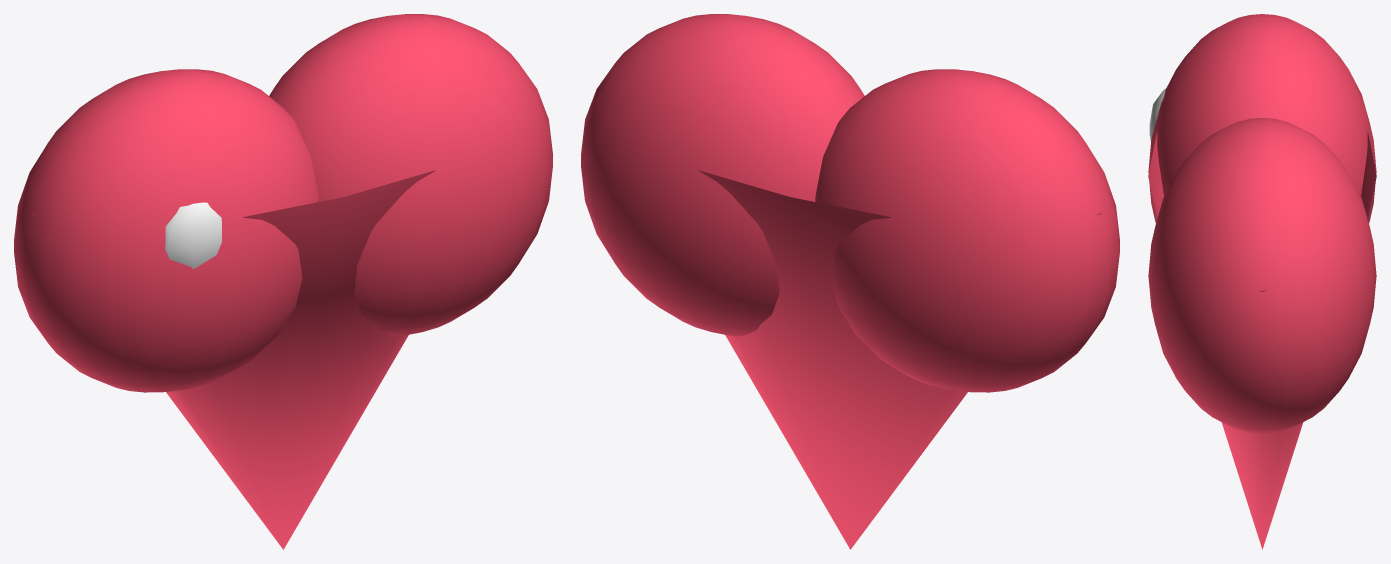
Rendered from Heart_Pickup.obj.
3 views of the same model, side by side, from view 1: azimuth 30°, elevation 25°; view 2: azimuth 150°, elevation 25°; view 3: azimuth 270°, elevation 25° (orthographic). The views are drawn at different scales.
Visible parts, largest first — view 1: Heart_Pickup; view 2: Heart_Pickup; view 3: Heart_Pickup.
Boxes of the visible parts, x1,y1,x2,y2 form: Heart_Pickup: (14, 14, 552, 549); Heart_Pickup: (581, 14, 1119, 549); Heart_Pickup: (1148, 14, 1376, 549).
Size of the model in its own units: 0.64 by 0.59 by 0.2604.
Materials: 1 (1 with a texture image).
